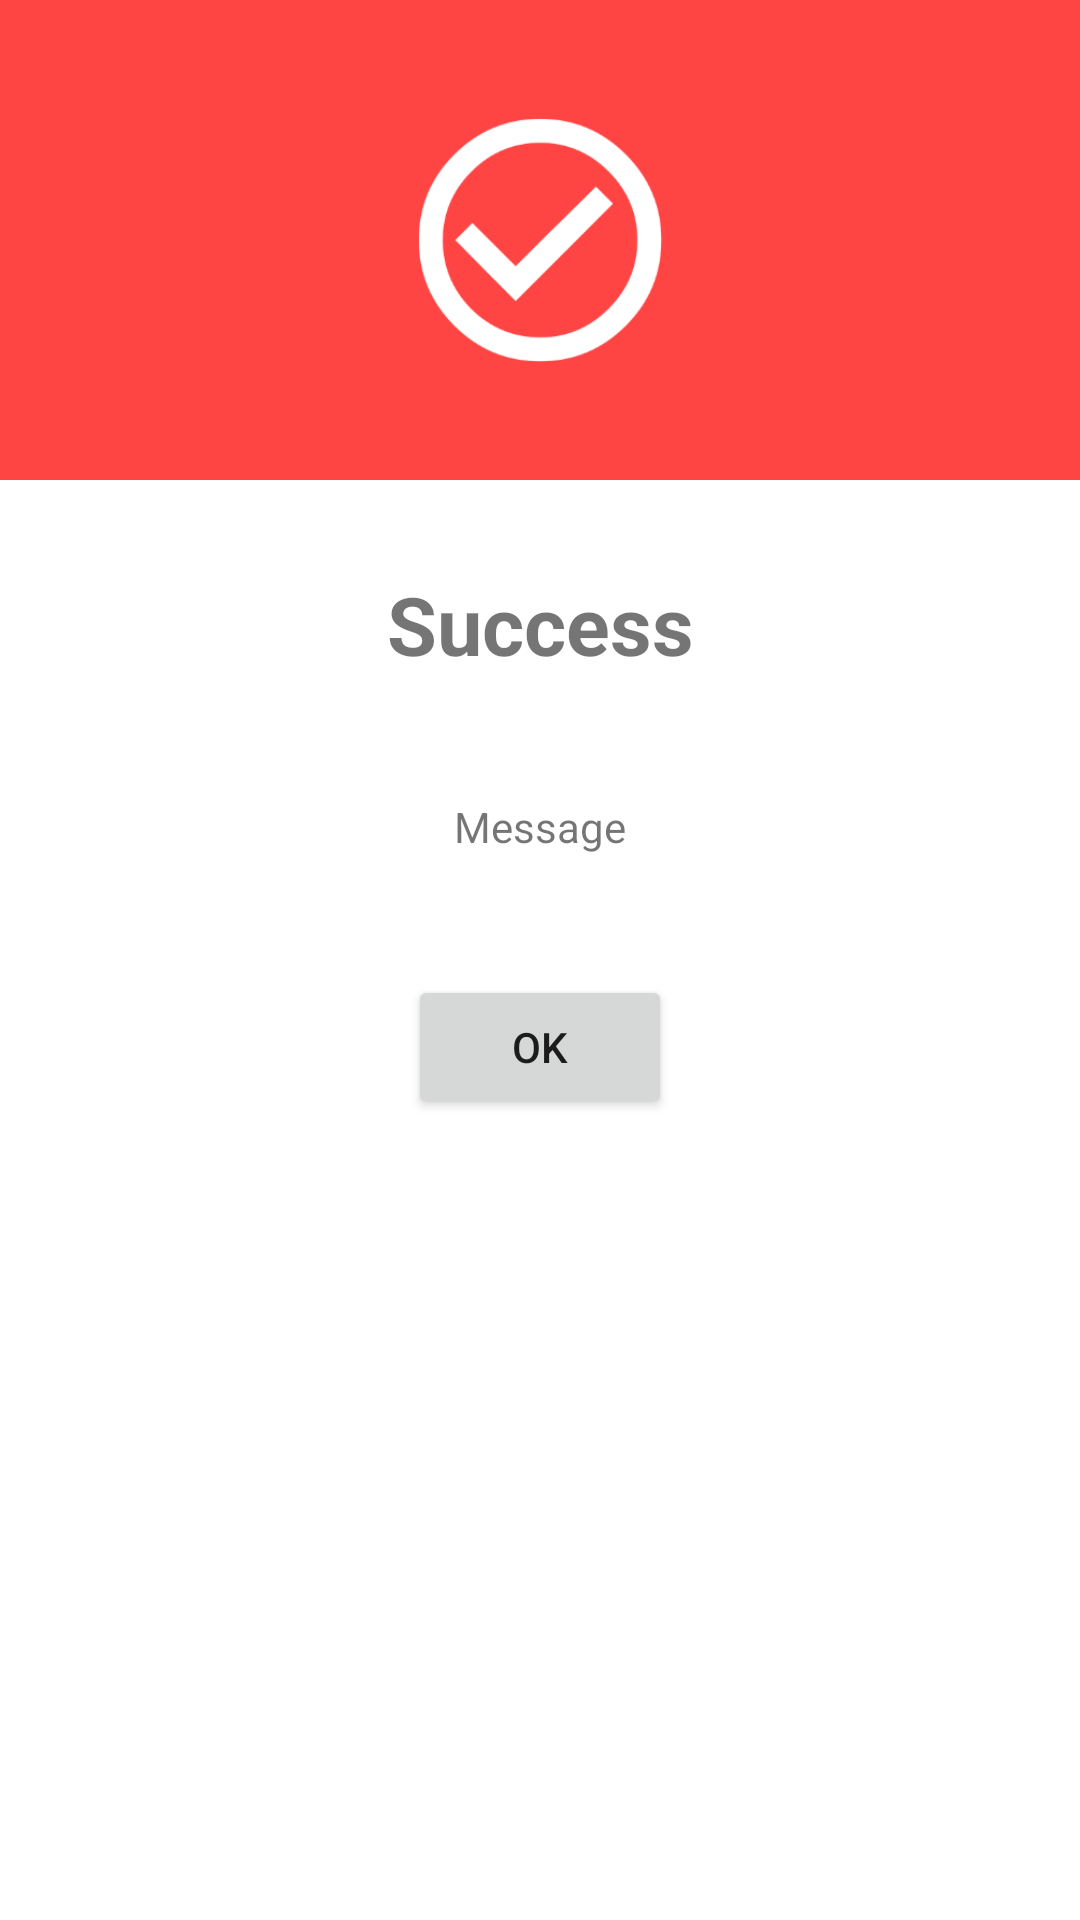

Named icons in this screenshot (1080px×1920px) and their bounding boxes, (x1, y1, x2, y2):
success: (419, 119, 662, 362)
